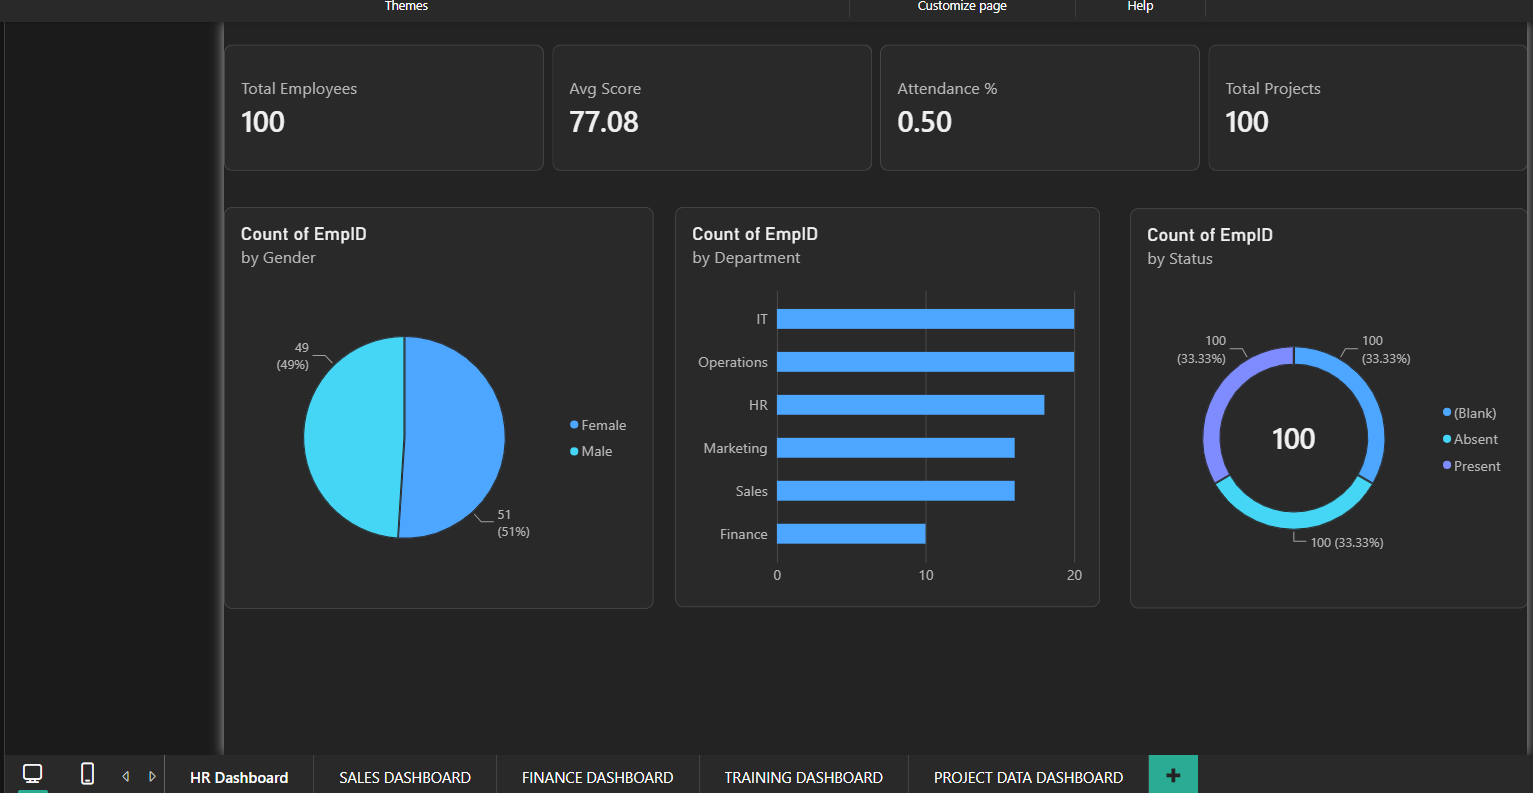

The dashboard page shown, as its layout file describes it:
{"tool":"powerbi","page":{"name":"HR Dashboard","canvas":[1280,720],"ordinal":0},"visuals":[{"type":"cardVisual","fields":{"Data":["Employee_Master.Total Employees","Training_Data.Avg Score","Attendance_Data.Attendance %","Project_Data.Total Projects"]},"box":[0,22.4,1280,124.4],"z":0},{"type":"pieChart","fields":{"Category":["Employee_Master.Gender"],"Y":["CountNonNull(Employee_Master.EmpID)"]},"box":[0,181.6,421.7,394.3],"z":1000},{"type":"clusteredBarChart","fields":{"Category":["Employee_Master.Department"],"Y":["CountNonNull(Employee_Master.EmpID)"]},"box":[442.8,181.6,416.7,393.1],"z":2000},{"type":"donutChart","fields":{"Category":["Attendance_Data.Status"],"Y":["CountNonNull(Employee_Master.EmpID)"]},"box":[889.4,182.9,390.6,393.1],"z":3000}]}

Visuals, with their boxes on the page's 1280x720 design canvas (x1, y1, x2, y2). These are canvas units, not pixel positions in the 1533x793 screenshot, which may show the page scaled, cropped or inside an application window:
cardVisual - Employee_Master.Total Employees x Training_Data.Avg Score: bbox(0, 22, 1280, 147)
pieChart - Employee_Master.Gender x CountNonNull(Employee_Master.EmpID): bbox(0, 182, 422, 576)
clusteredBarChart - Employee_Master.Department x CountNonNull(Employee_Master.EmpID): bbox(443, 182, 860, 575)
donutChart - Attendance_Data.Status x CountNonNull(Employee_Master.EmpID): bbox(889, 183, 1280, 576)
